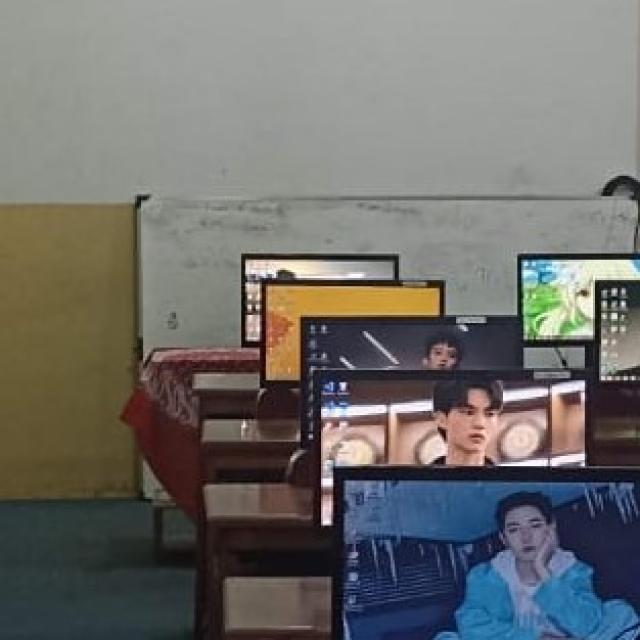onscreen: (336, 470, 640, 640), (318, 371, 585, 524), (265, 284, 441, 381), (241, 254, 399, 346), (305, 316, 520, 381), (519, 254, 640, 341), (598, 281, 640, 381)
